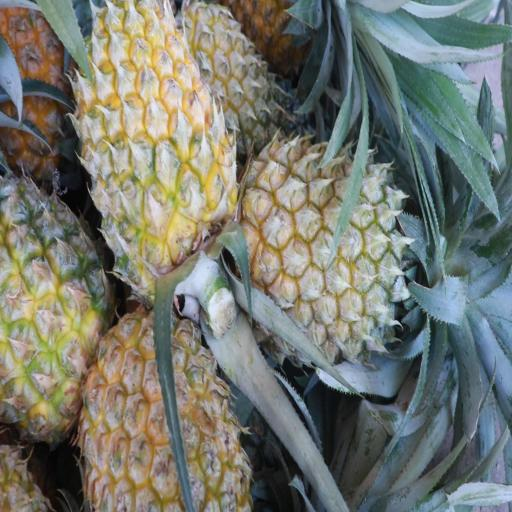------------------------------: (0, 174, 127, 456)
Pineapple - v8 v1: (68, 0, 242, 336), (243, 133, 426, 372), (82, 305, 265, 512)
